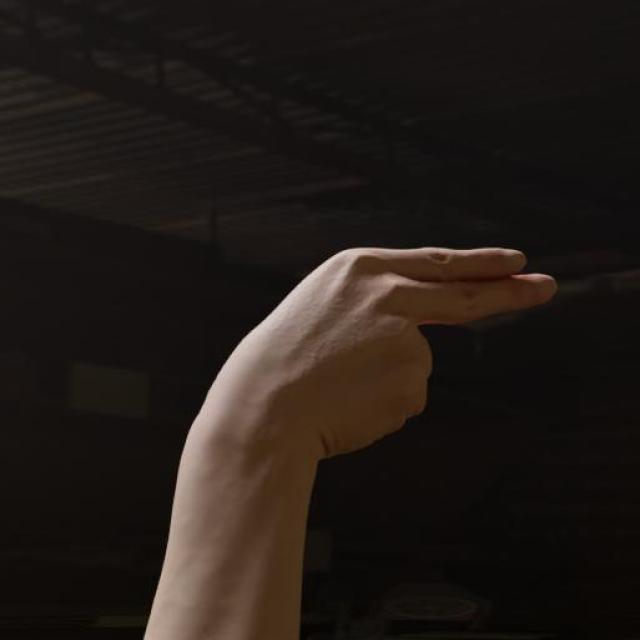H: (182, 238, 572, 482)
